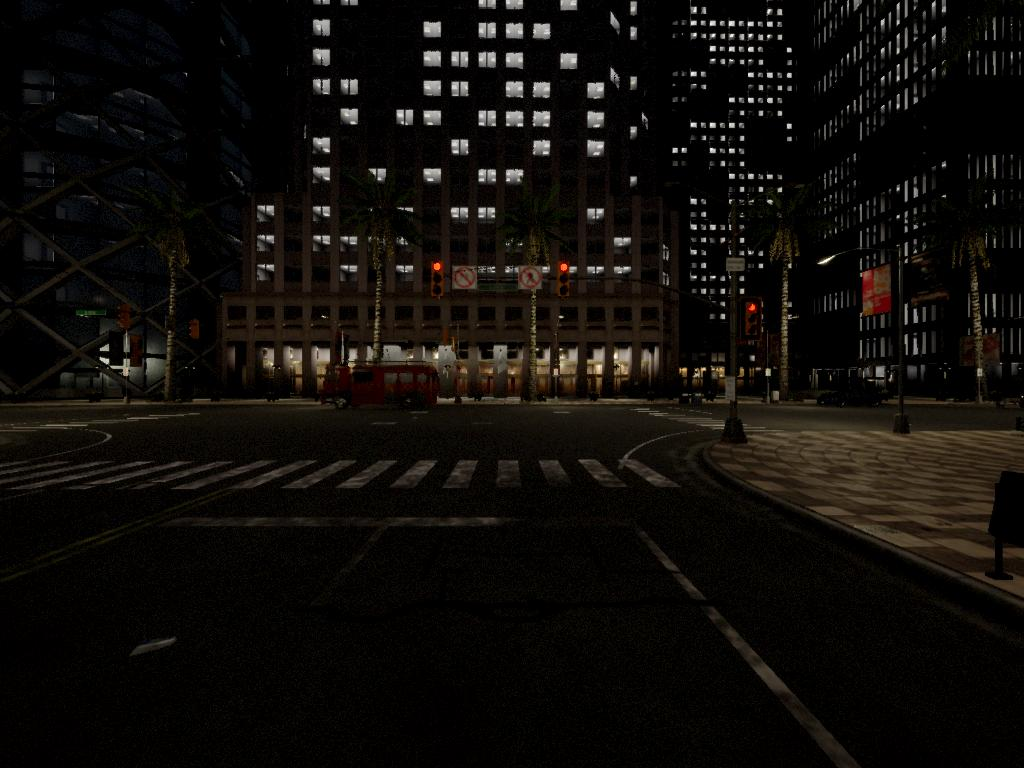traffic_light: (744, 302, 763, 343), (432, 264, 447, 298), (557, 266, 572, 299)
